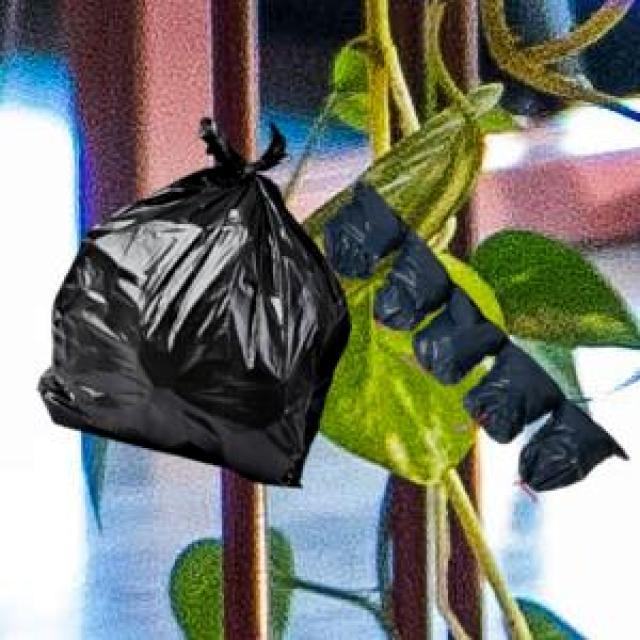Garbage_Bag: (35, 114, 347, 483), (319, 178, 624, 488)
